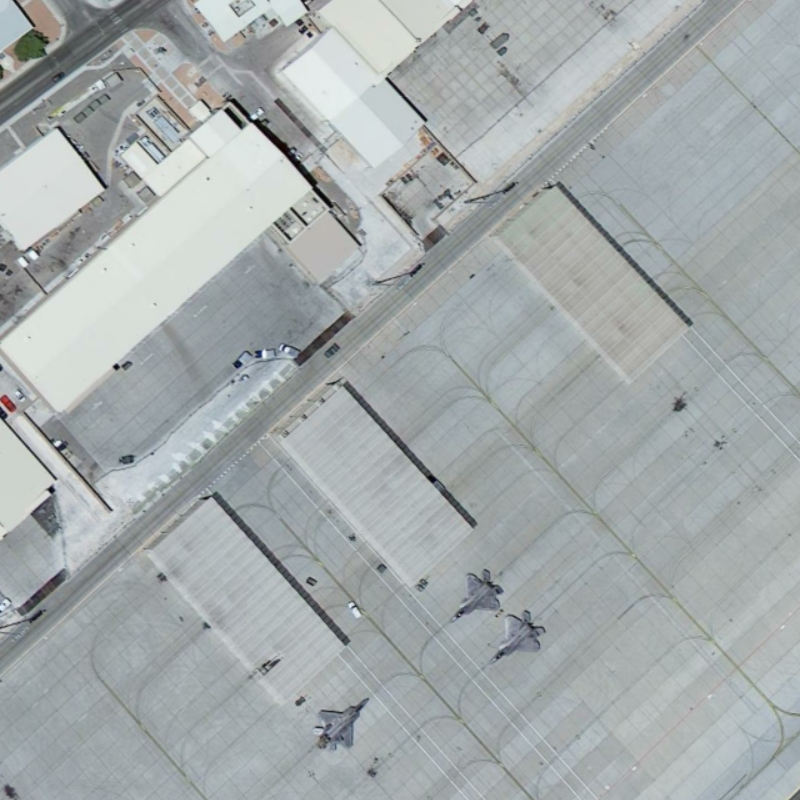A15: (444, 566, 505, 628), (486, 608, 546, 668), (311, 695, 371, 755)
